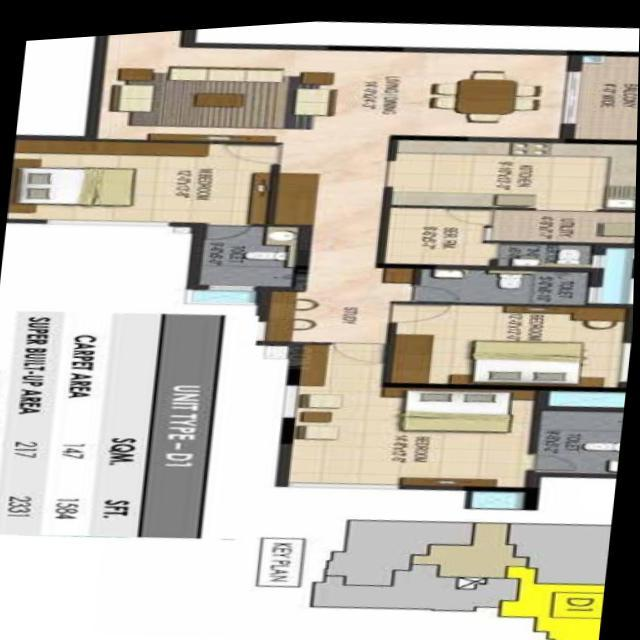Balcony-Sitout: (565, 47, 639, 142)
Bedroom: (384, 293, 635, 390), (375, 201, 500, 268)
Bedroom with Toilet: (279, 375, 629, 488), (8, 127, 286, 222)
Dining: (419, 62, 552, 122)
Kitchen: (385, 132, 638, 212)
Living: (86, 30, 349, 133)
Toilet: (406, 260, 605, 306), (187, 215, 313, 286), (540, 384, 629, 477), (492, 238, 604, 270)
Utility: (487, 204, 636, 244)
